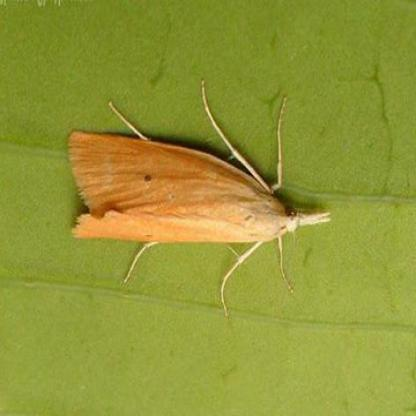stem-borer: (69, 130, 334, 267)
